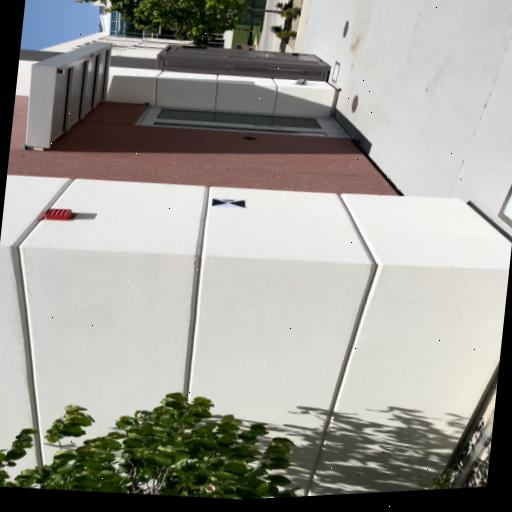target6: (211, 198, 247, 210)
